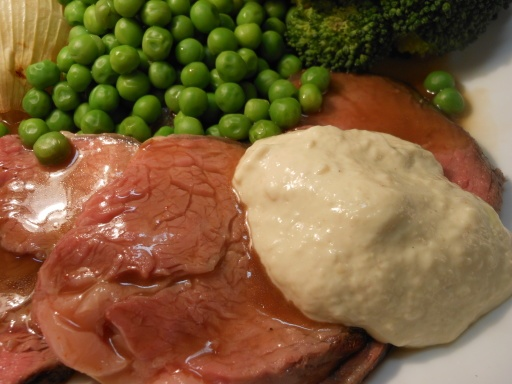background: (0, 0, 410, 230)
